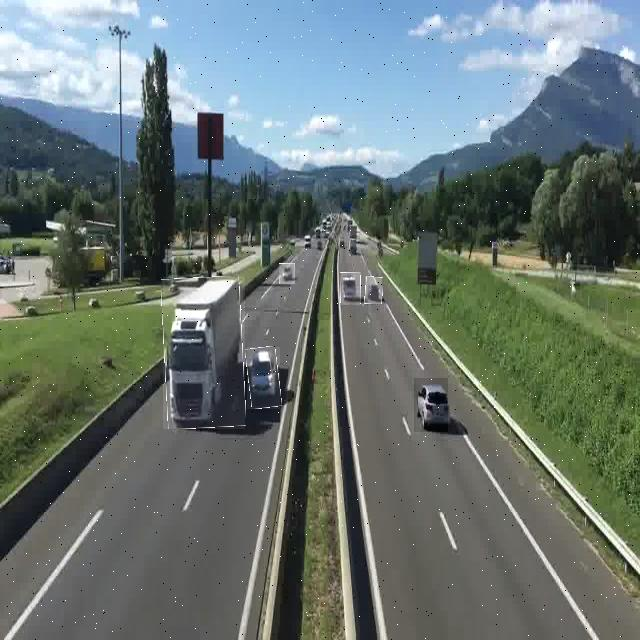Car: (247, 347, 280, 409), (414, 378, 448, 432), (341, 272, 361, 305), (365, 277, 382, 304), (279, 263, 295, 284)
Truck: (163, 277, 245, 429)
